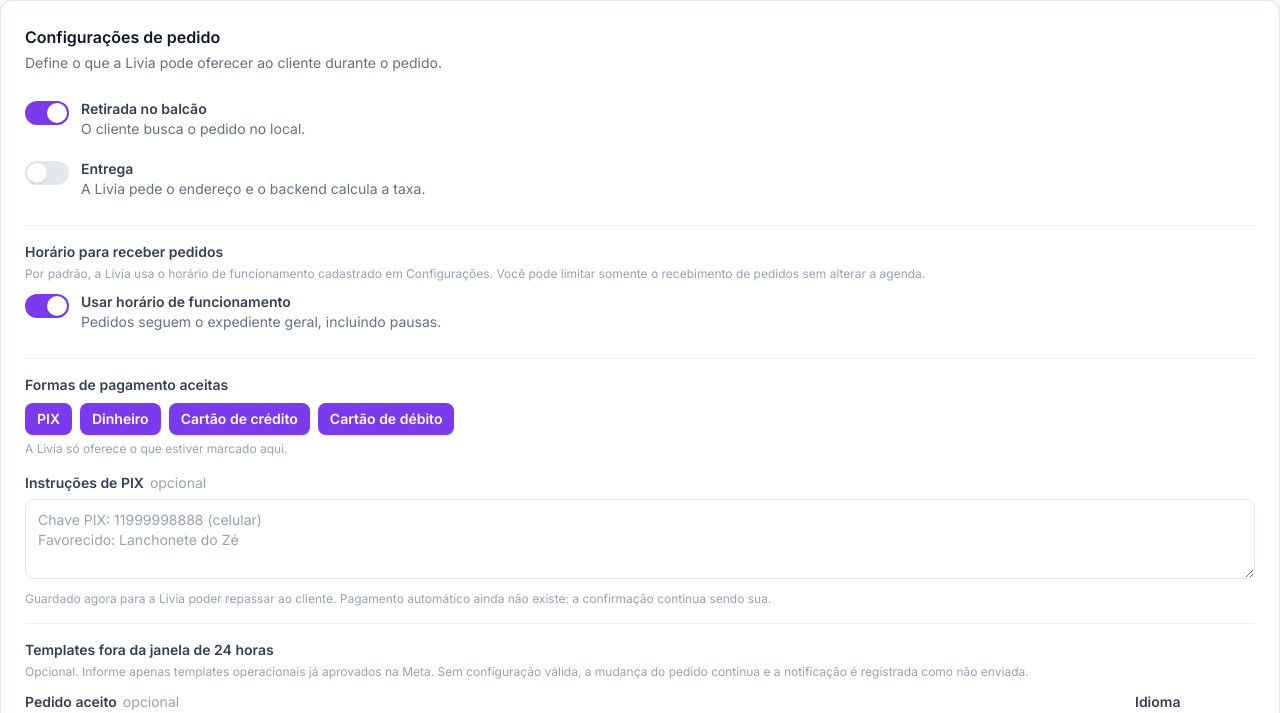
Scenario: OrderSettingsEditor (tela) › explicita que pausas só são herdadas ao usar o expediente geral
Expected: the text "Configurações de pedido" is shown, x1=25 y1=27 x2=220 y2=47
Click the checkbox labelled "Usar horário de funcionamento".
click(233, 312)  # box x1=25 y1=293 x2=441 y2=330
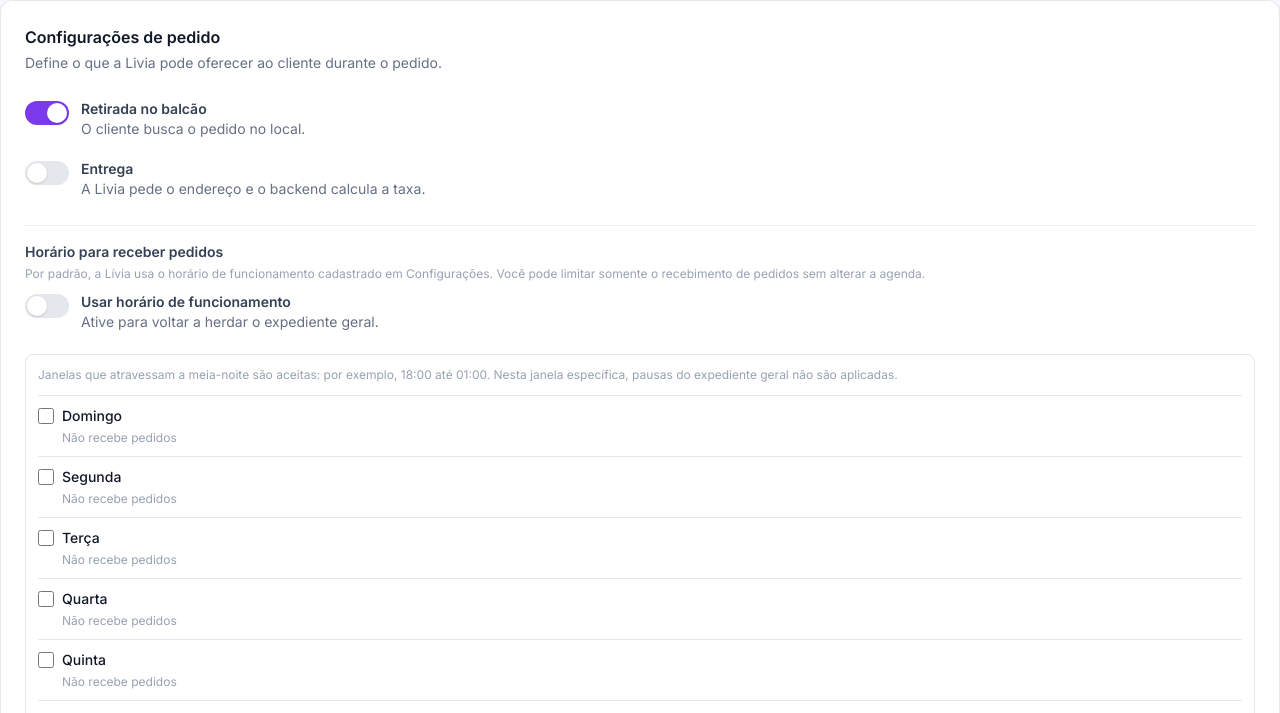
Expected: the text "Nesta janela específica, pausas do expediente geral não são aplicadas" is shown, x1=38 y1=367 x2=898 y2=382
